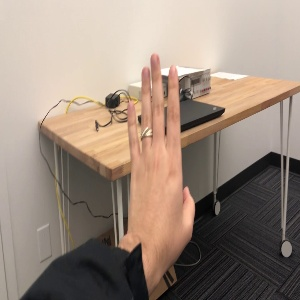hand: (128, 53, 195, 241)
